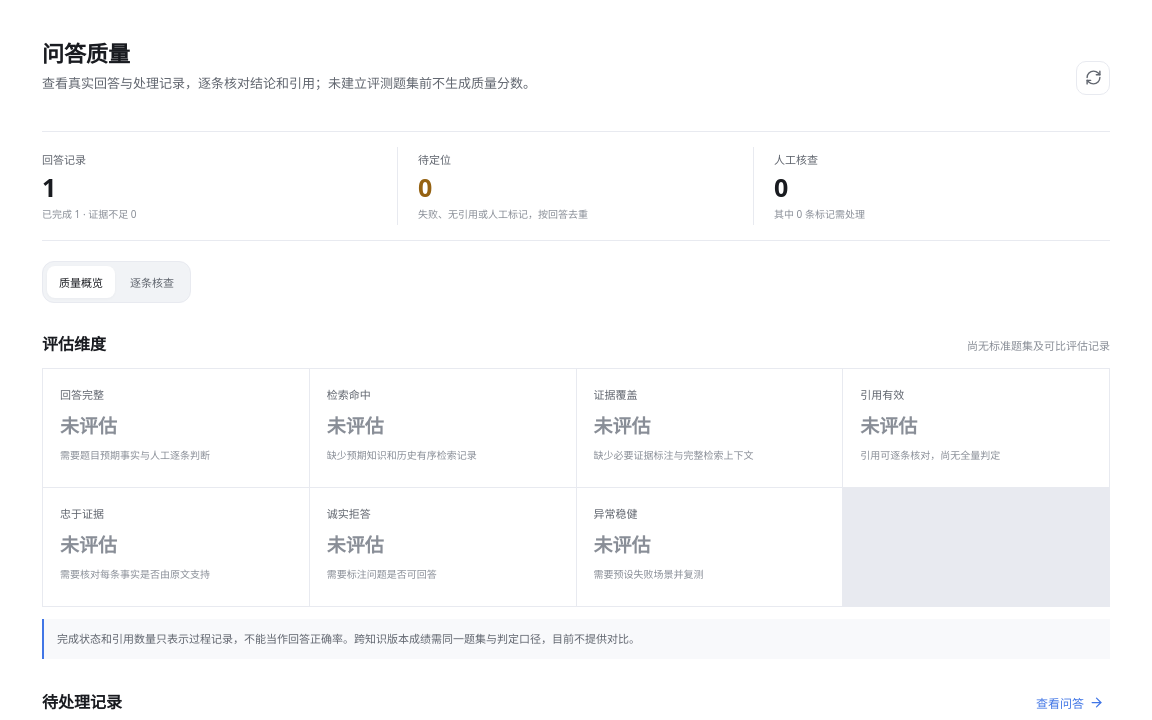
Test case: AnswerQualityPage › opens real evidence and persists an issue review
Click the tab "逐条核查" at coordinates (152, 282), box [118, 266, 186, 298]
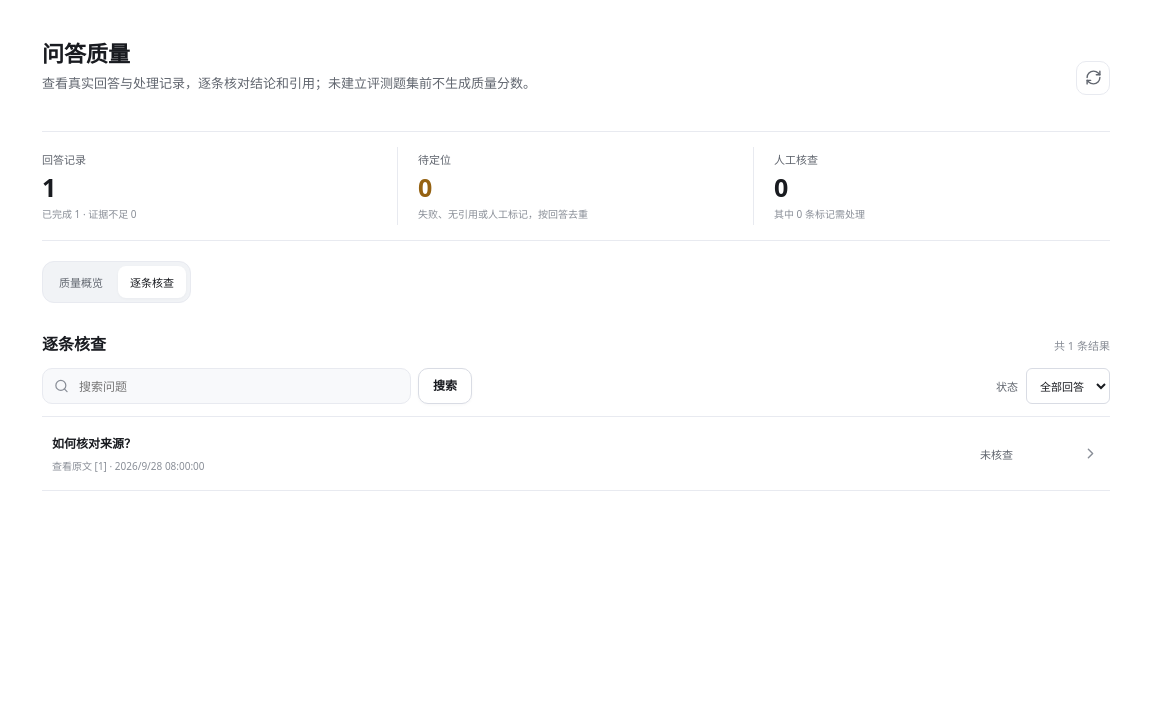
Click the button "如何核对来源？ 查看原文 [1] · 2026/9/28 08:00:00 未核查" at coordinates (94, 444), box [42, 417, 1110, 491]
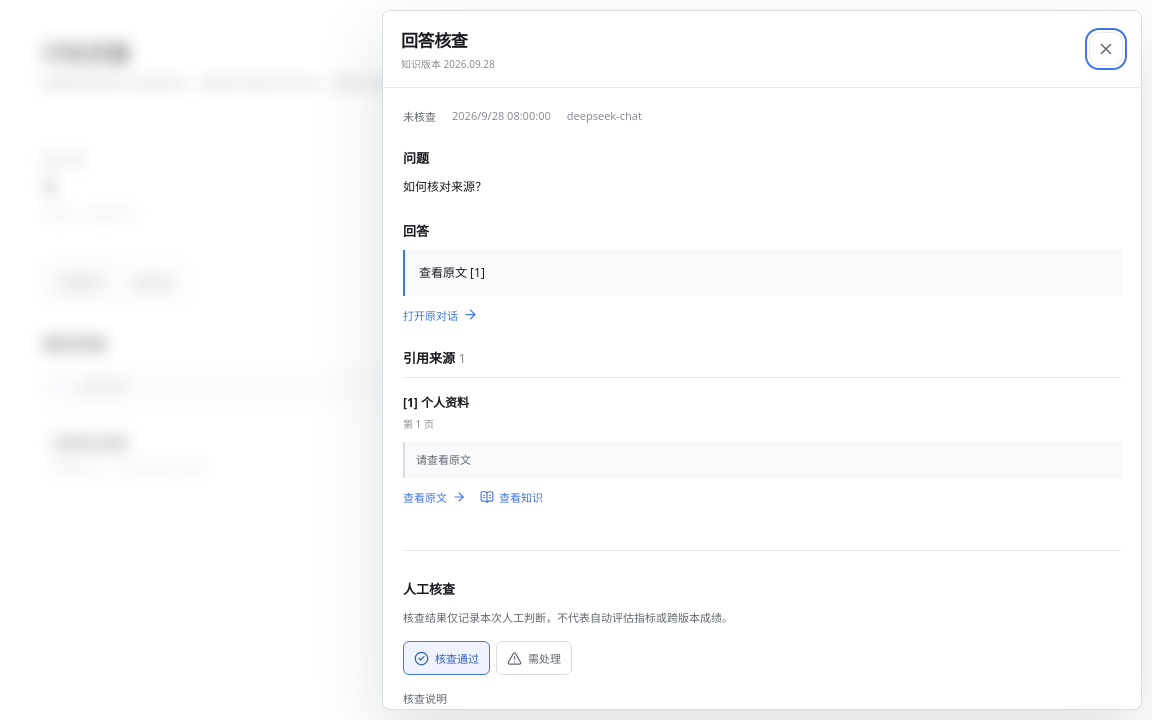
Result: the dialog "回答核查" shows "第 1 页" at [403, 417, 434, 431]
Click the button "需处理" at coordinates (534, 658), box [496, 641, 572, 675]
(page scrolled)
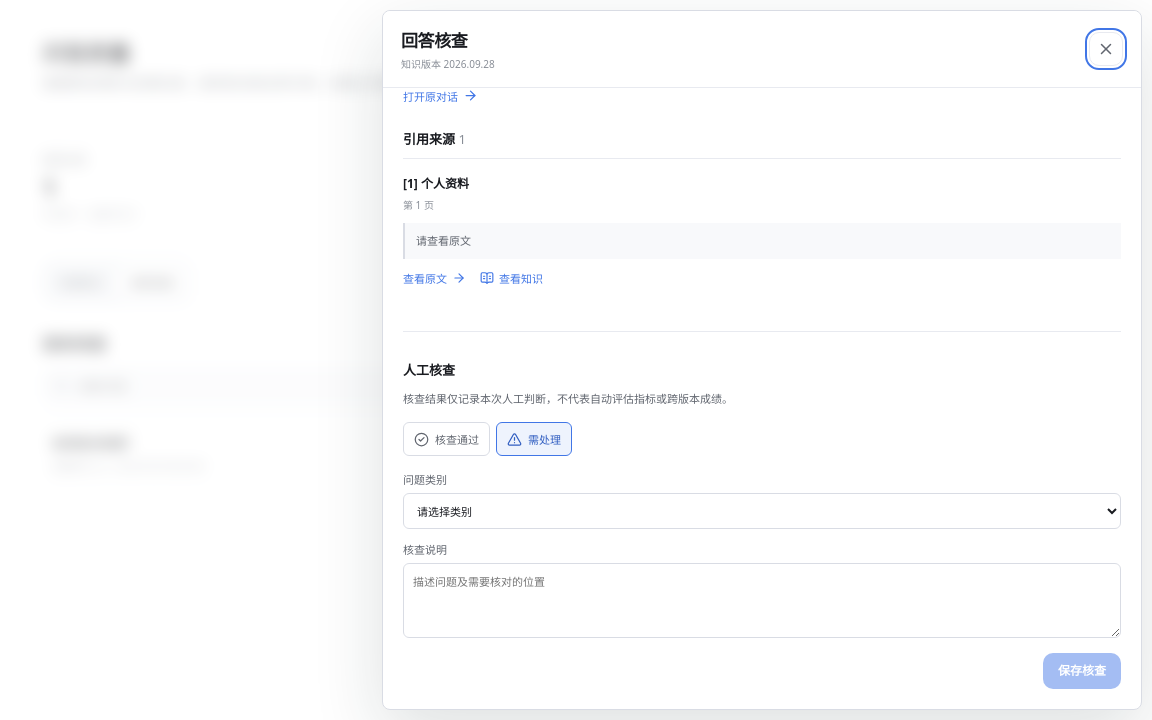
Select "引用" in the dropdown labelled "问题类别" at coordinates (762, 511), box [403, 493, 1121, 529]
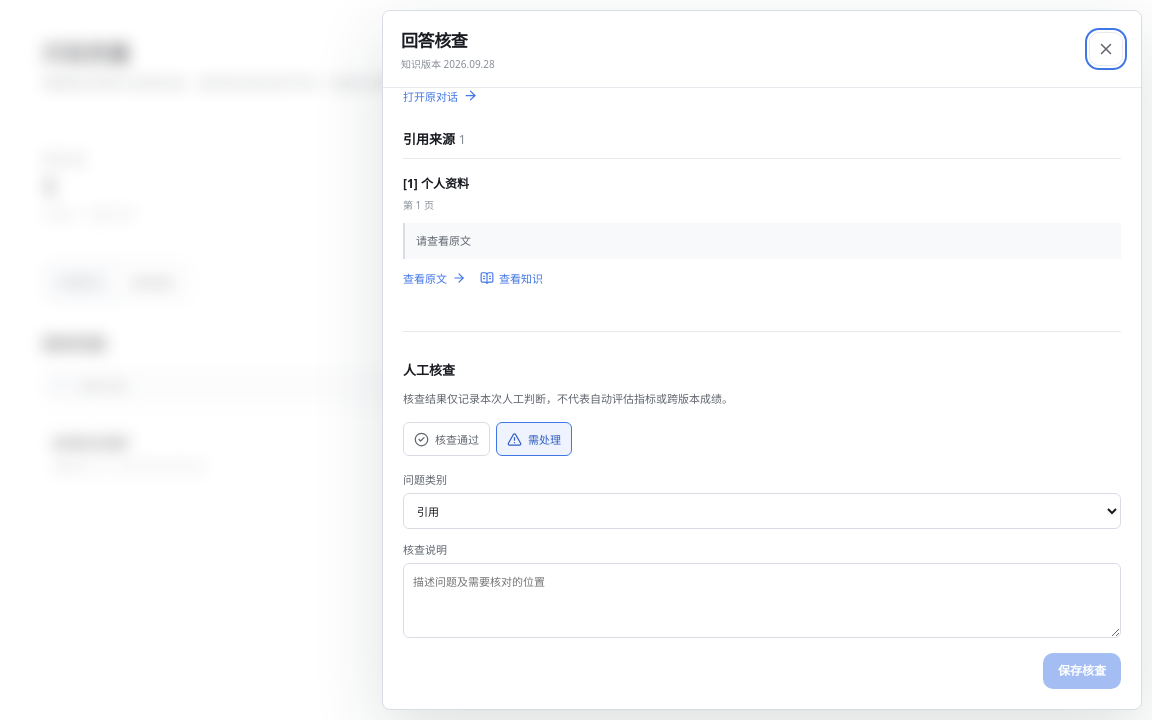
Type "需要核对" into the text box labelled "核查说明" at coordinates (762, 601), box [403, 563, 1121, 638]
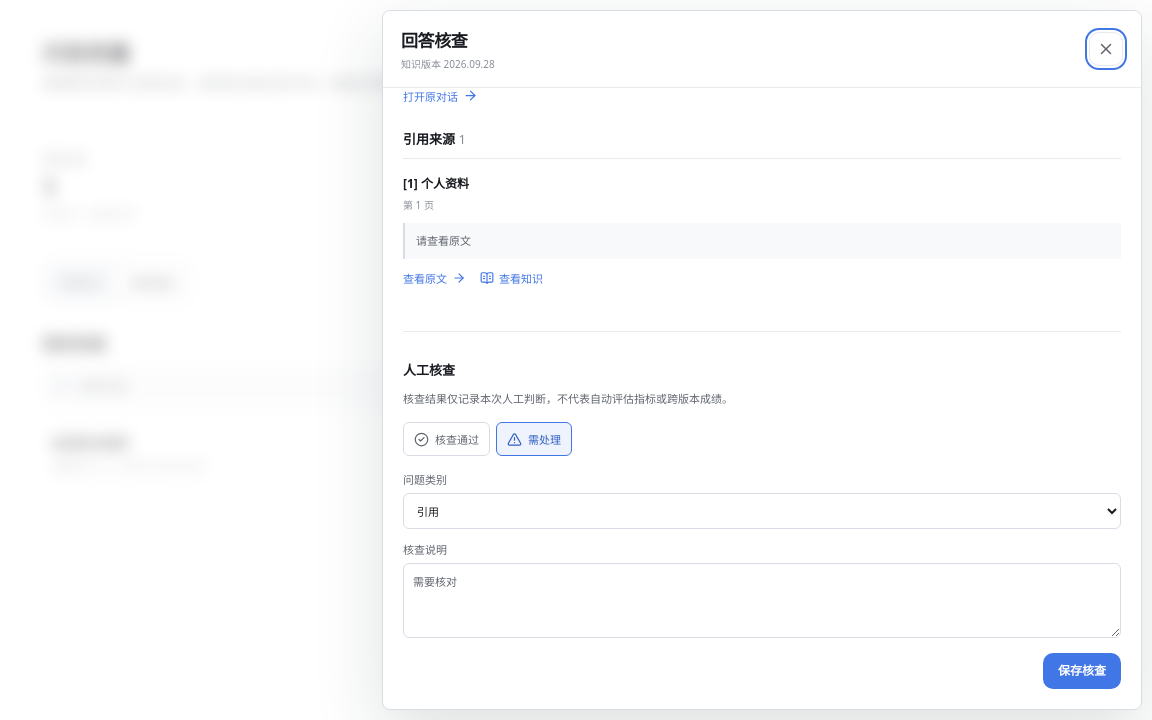
Click the button "保存核查" at coordinates (1082, 671), box [1043, 653, 1121, 689]
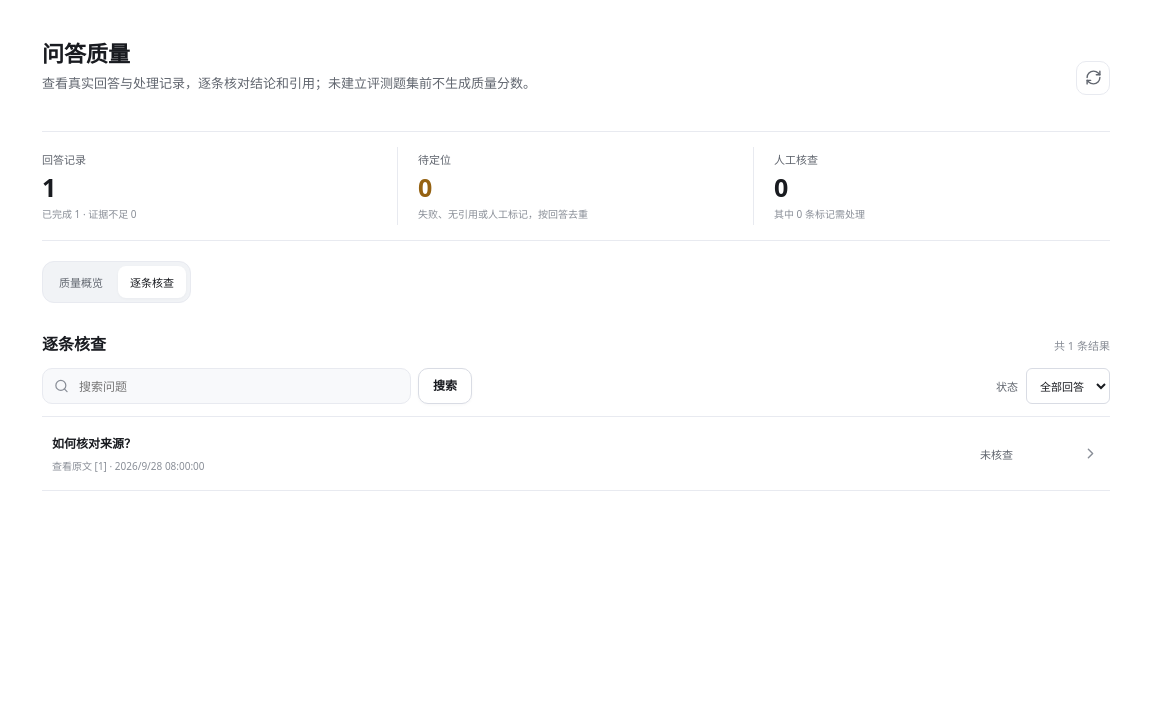
Result: the heading "回答核查" is gone
